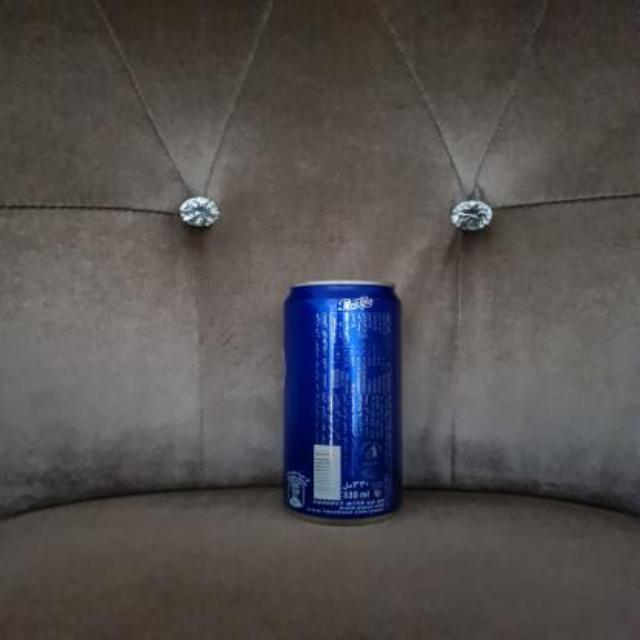metal: (283, 280, 398, 515)
